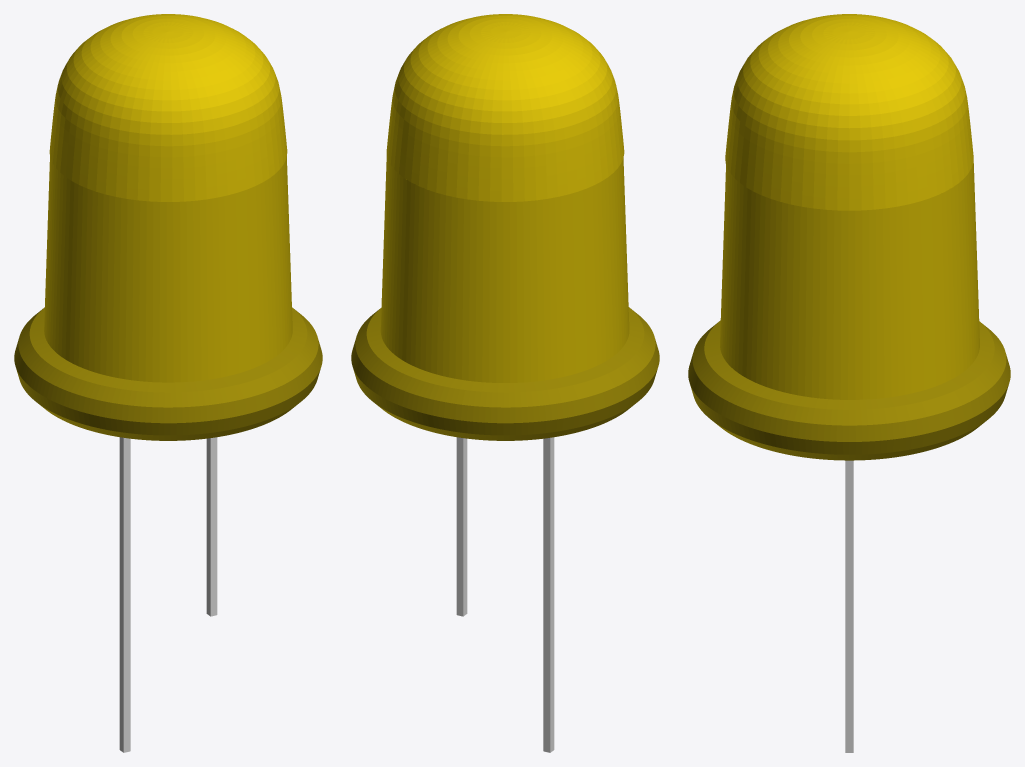
File: LED Yellow.fbx
3 renders of one model, left to right at view 1: azimuth 30°, elevation 25°; view 2: azimuth 150°, elevation 25°; view 3: azimuth 270°, elevation 25°, orthographic. The views are drawn at different scales.
Parts seen in each view (by area): view 1: Cylinder, Sphere, Torus, Cube, Cube.001; view 2: Cylinder, Sphere, Torus, Cube, Cube.001; view 3: Cylinder, Sphere, Torus, Cube.001, Cube.
Part boxes in pixels (left/top/right/bottom): Cylinder: left=44, top=156, right=292, bottom=382; Sphere: left=49, top=14, right=287, bottom=201; Torus: left=14, top=307, right=322, bottom=440; Cube: left=119, top=437, right=130, bottom=752; Cube.001: left=206, top=437, right=217, bottom=616; Cylinder: left=380, top=154, right=629, bottom=382; Sphere: left=386, top=14, right=624, bottom=201; Torus: left=351, top=307, right=659, bottom=440; Cube: left=543, top=437, right=554, bottom=752; Cube.001: left=456, top=437, right=467, bottom=616; Cylinder: left=720, top=161, right=979, bottom=399; Sphere: left=725, top=14, right=973, bottom=210; Torus: left=688, top=320, right=1010, bottom=460; Cube.001: left=845, top=460, right=853, bottom=676; Cube: left=845, top=677, right=853, bottom=752.
Size of the model in its own units: 164 by 415 by 164.
